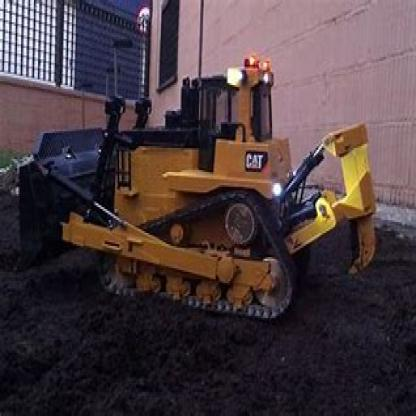bull_dozer/loader/grader: (12, 48, 386, 335)
